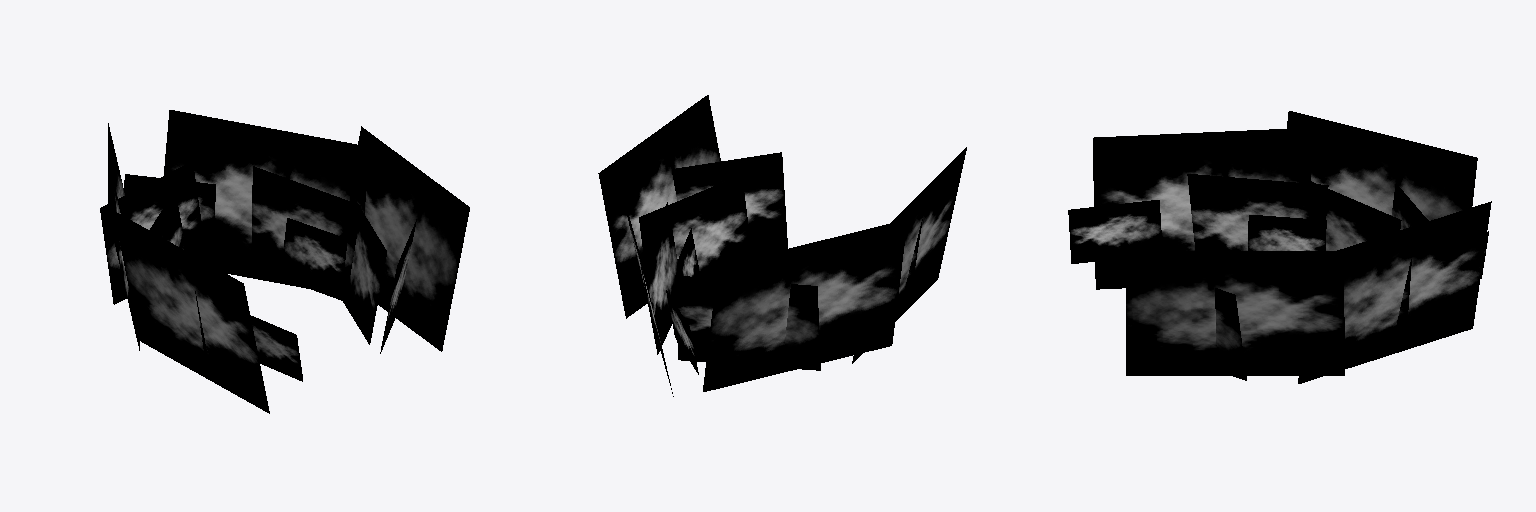
3 renders of one model, left to right at view 1: azimuth 30°, elevation 25°; view 2: azimuth 150°, elevation 25°; view 3: azimuth 270°, elevation 25°, orthographic.
Parts seen in each view (by area): view 1: CloudsL_Plane.013; view 2: CloudsL_Plane.013; view 3: CloudsL_Plane.013.
Part boxes in pixels (x1,y1,x2,y2): CloudsL_Plane.013: (100, 110, 469, 413); CloudsL_Plane.013: (598, 95, 966, 396); CloudsL_Plane.013: (1068, 111, 1491, 383).
Size of the model in its own units: 23.51 by 11.71 by 29.92.
1 materials, 1 textured.